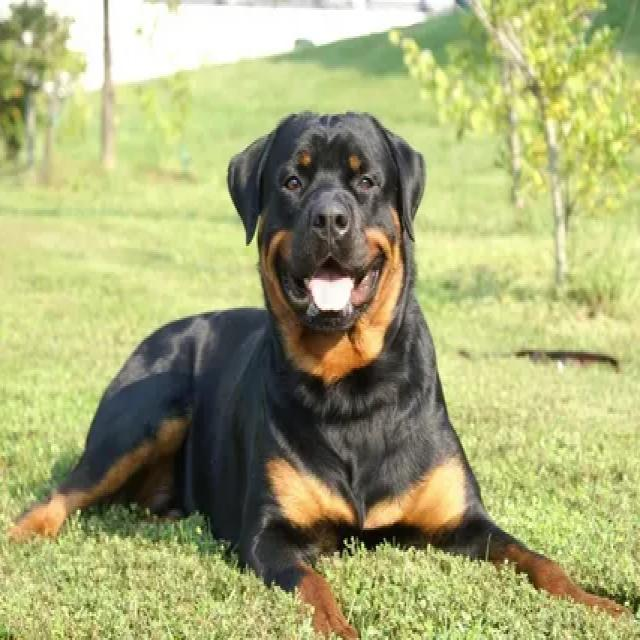Dog: (220, 107, 431, 555)
